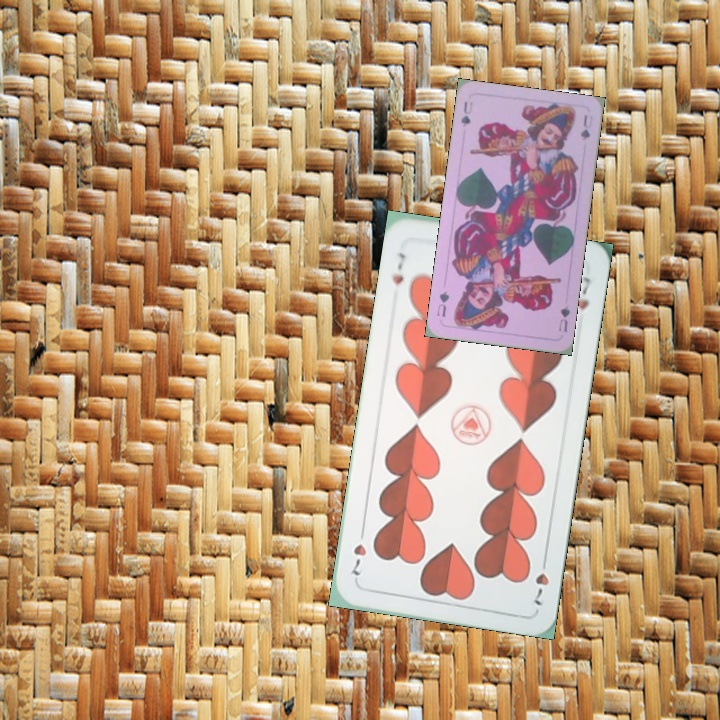GU: (554, 302, 573, 334), (457, 97, 475, 129)
H7: (530, 552, 551, 608), (388, 248, 408, 287)
